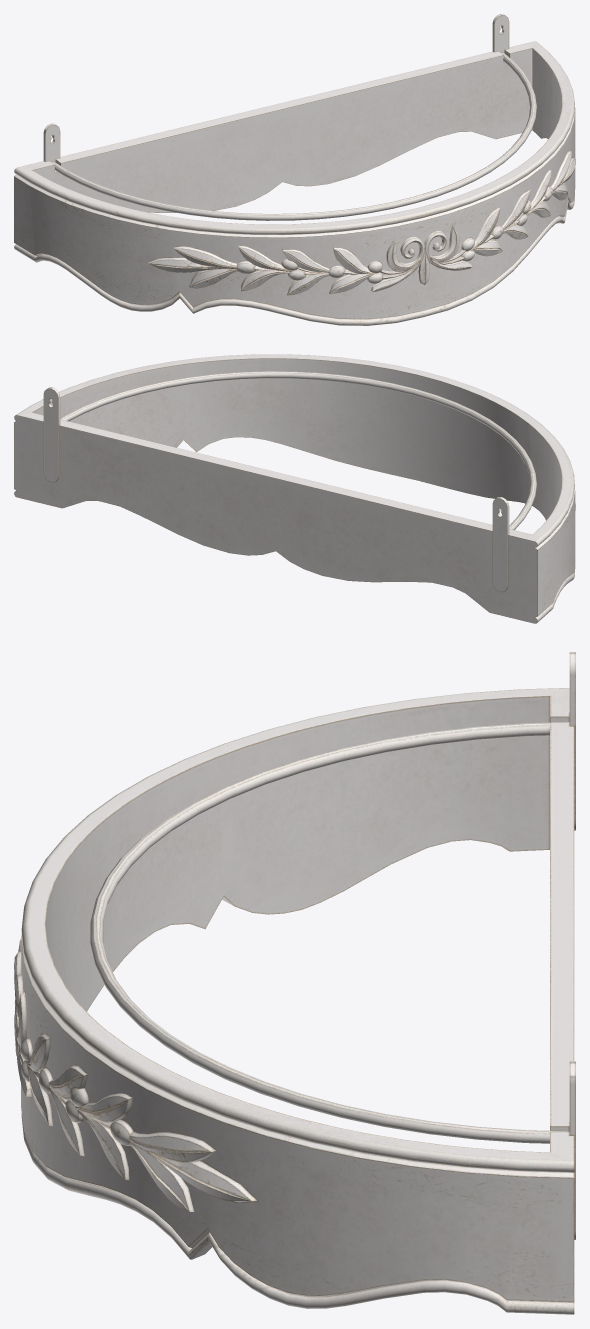
The model's file is example179.gltf.
3 views of the same model, one above another, from view 1: azimuth 30°, elevation 25°; view 2: azimuth 150°, elevation 25°; view 3: azimuth 270°, elevation 25° (orthographic). The views are drawn at different scales.
Size of the model in its own units: 69.98 by 18 by 34.79.
Materials: 1 (1 with a texture image).
